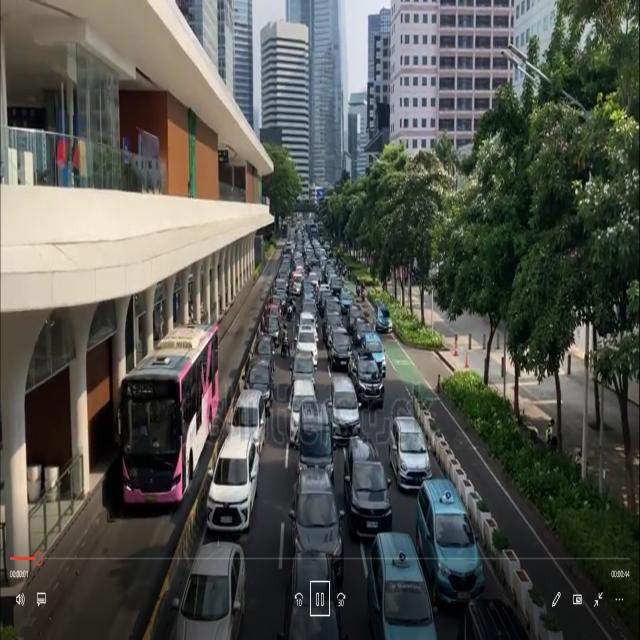Ambulance: (293, 273, 306, 300)
